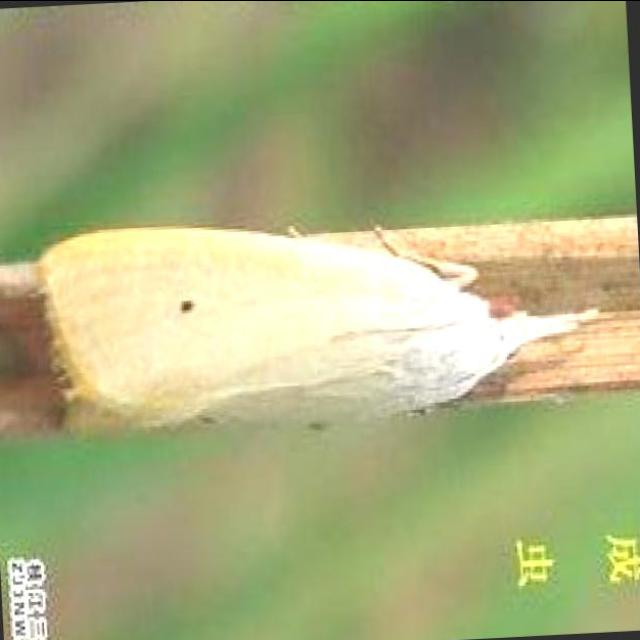stem borer: (39, 226, 597, 429)
